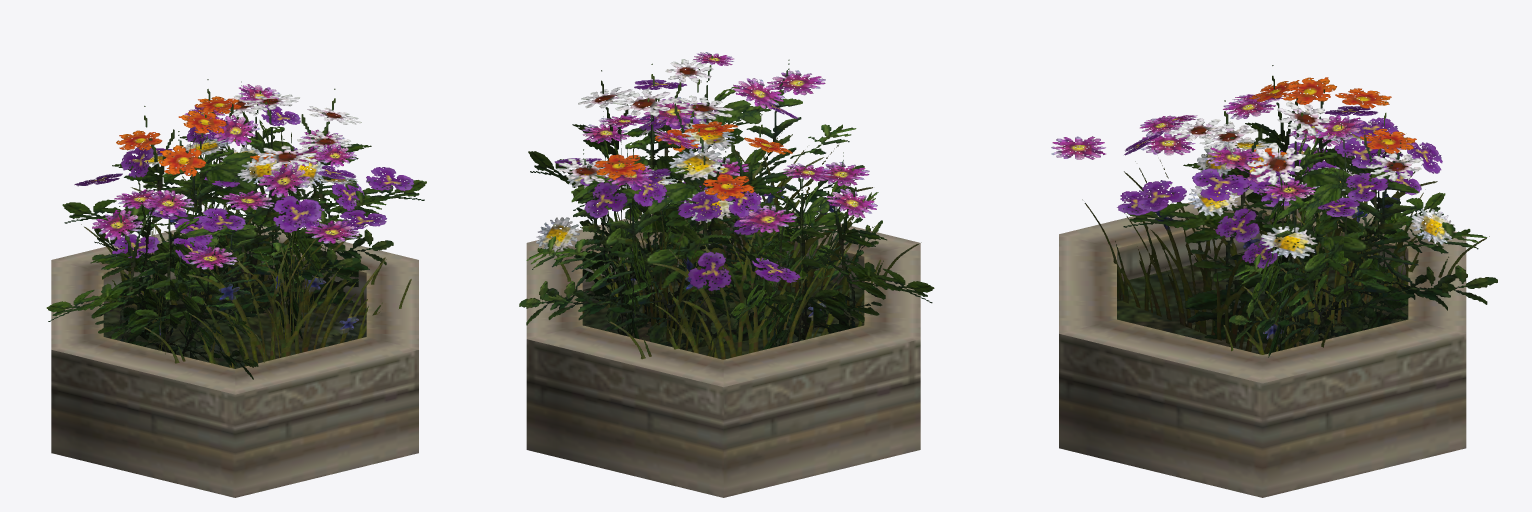
Rendered from environment_grass_zhuchengzhiwu_001_a.FBX.
The picture shows the model from 3 angles, left to right: view 1: azimuth 30°, elevation 25°; view 2: azimuth 150°, elevation 25°; view 3: azimuth 270°, elevation 25°; orthographic projection. The views are drawn at different scales.
Visible parts, largest first — view 1: environment_grass_zhuchengzhiwu_001_a03, environment_grass_zhuchengzhiwu_001_a01, environment_grass_zhuchengzhiwu_001_a02; view 2: environment_grass_zhuchengzhiwu_001_a03, environment_grass_zhuchengzhiwu_001_a01, environment_grass_zhuchengzhiwu_001_a02; view 3: environment_grass_zhuchengzhiwu_001_a03, environment_grass_zhuchengzhiwu_001_a01, environment_grass_zhuchengzhiwu_001_a02.
Boxes of the visible parts, box(x1,y1,x2,y2) form: environment_grass_zhuchengzhiwu_001_a03: box(51, 217, 418, 497); environment_grass_zhuchengzhiwu_001_a01: box(46, 79, 426, 379); environment_grass_zhuchengzhiwu_001_a02: box(81, 176, 411, 368); environment_grass_zhuchengzhiwu_001_a03: box(526, 201, 920, 497); environment_grass_zhuchengzhiwu_001_a01: box(519, 52, 934, 350); environment_grass_zhuchengzhiwu_001_a02: box(556, 128, 921, 378); environment_grass_zhuchengzhiwu_001_a03: box(1059, 187, 1466, 497); environment_grass_zhuchengzhiwu_001_a01: box(1051, 65, 1497, 357); environment_grass_zhuchengzhiwu_001_a02: box(1082, 141, 1489, 354).
Size of the model in its own units: 158 by 97.66 by 144.
3 materials, 3 textured.
